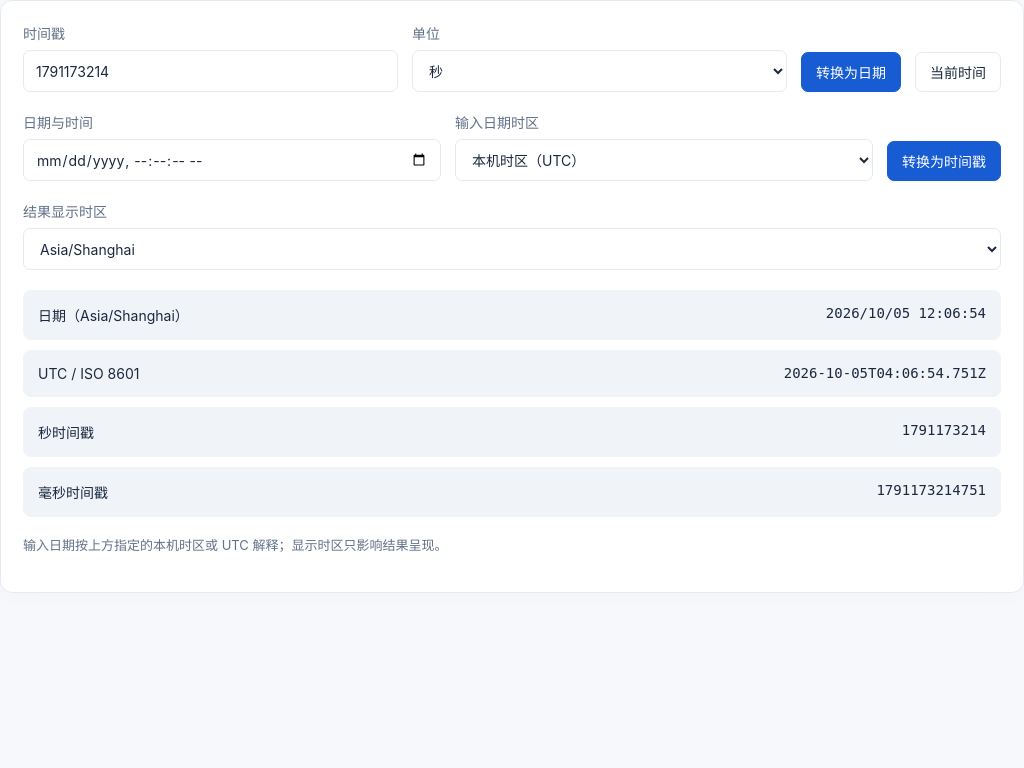
timestamps convert epoch and UTC date
Replace the text in the field labelled "时间戳" with "0". click: [210, 71]
box: 23,50 -> 398,92
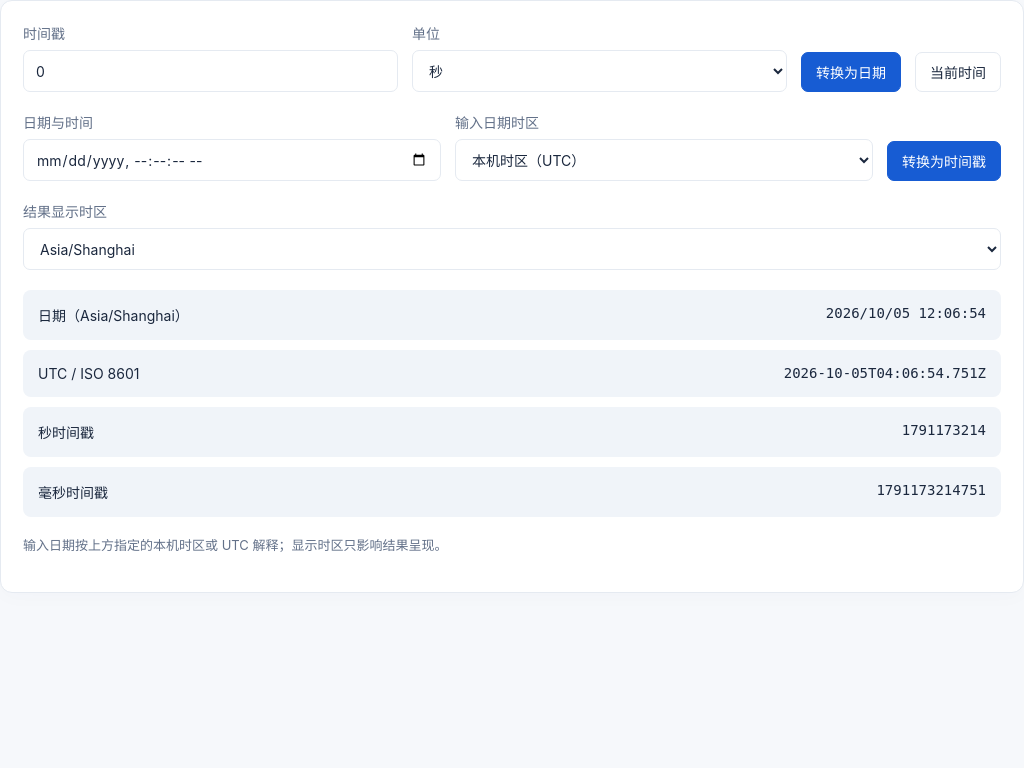
Click the button "转换为日期". click: [851, 72]
box: 801,52 -> 901,92
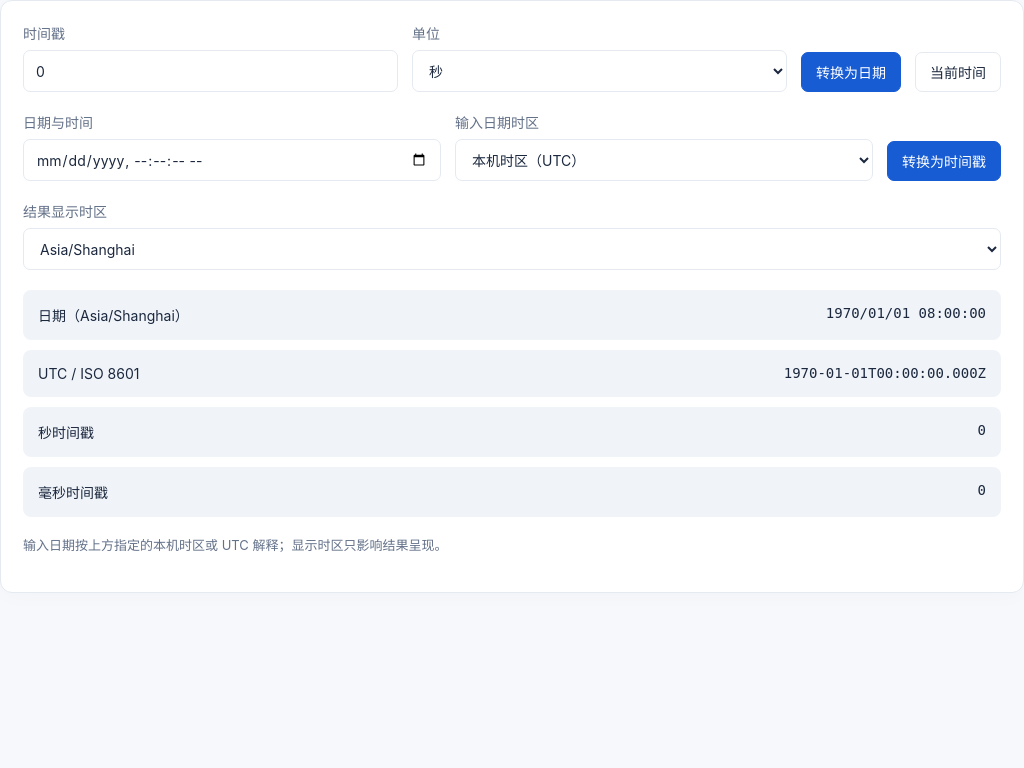
Expected: the text "1970-01-01T00:00:00.000Z" is shown, 784,365 -> 986,382
